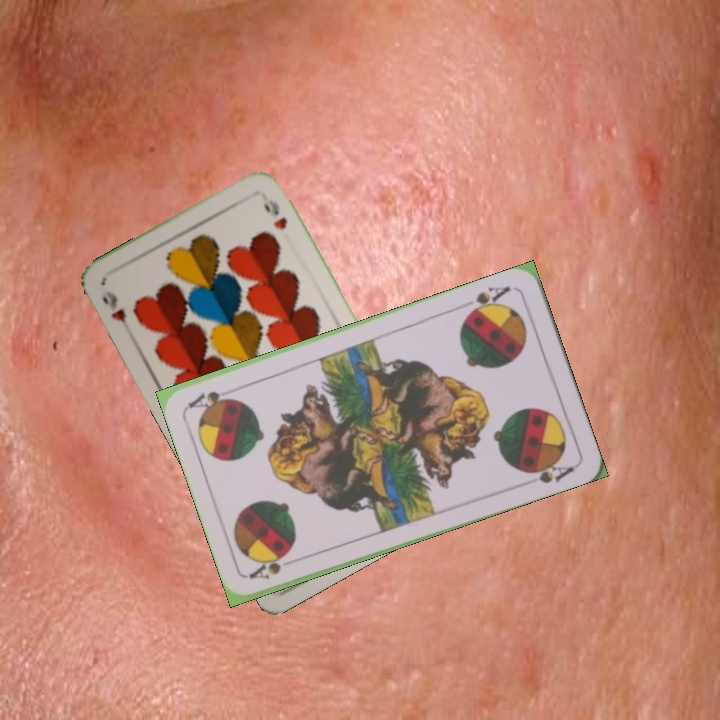H9: (98, 287, 134, 337)
SA: (458, 282, 513, 319), (245, 550, 291, 582)
